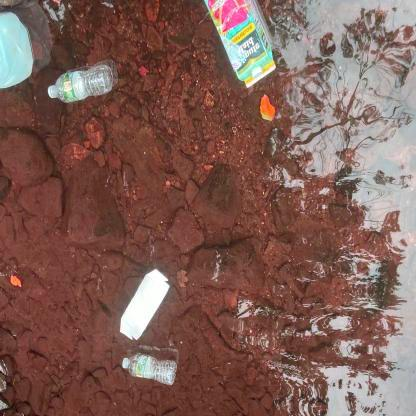Plastic: (43, 61, 121, 107), (0, 6, 39, 95), (117, 347, 181, 389)
Trash: (114, 265, 173, 344)
